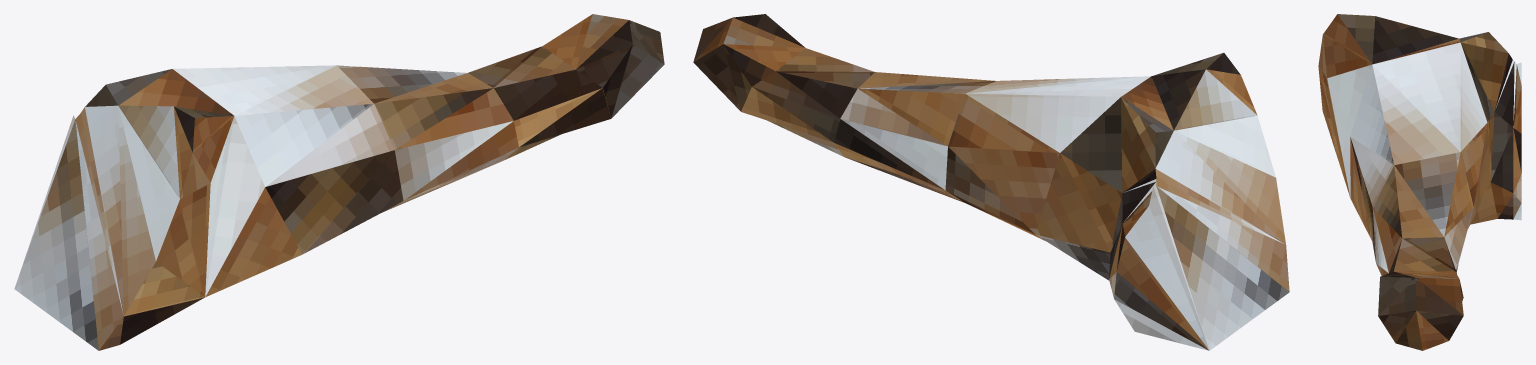
Rendered from cat.glb.
3 views of the same model, side by side, from view 1: azimuth 30°, elevation 25°; view 2: azimuth 150°, elevation 25°; view 3: azimuth 270°, elevation 25° (orthographic). The views are drawn at different scales.
Parts seen in each view (by area): view 1: group_0_16345508; view 2: group_0_16345508; view 3: group_0_16345508.
Boxes of the visible parts, bbox=[...] form: group_0_16345508: bbox=[14, 14, 664, 350]; group_0_16345508: bbox=[693, 14, 1289, 350]; group_0_16345508: bbox=[1318, 14, 1521, 350].
Bounding box in the file's own units: 47.51 × 17.13 × 15.09.
Materials: 1 (1 with a texture image).
